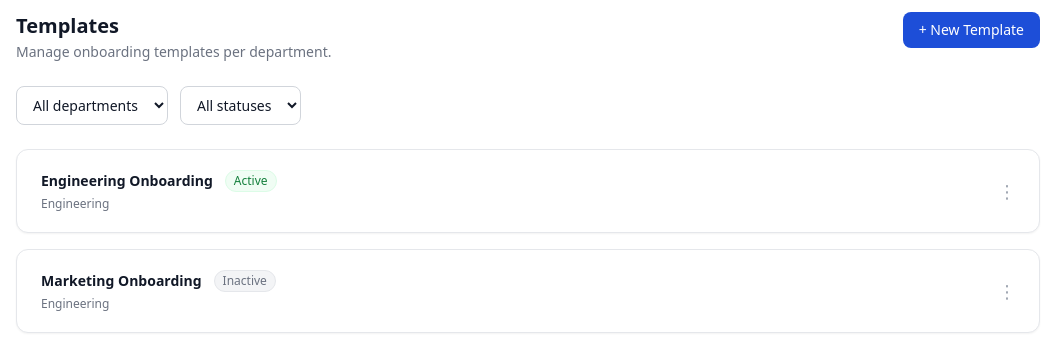
Scenario: TemplatesPage › filters templates by status
Expected: the heading "Engineering Onboarding" is shown, [41,171,213,191]
Select "Active" in the 2nd dropdown showing "All statuses" at (240, 106), box [180,86,301,125]
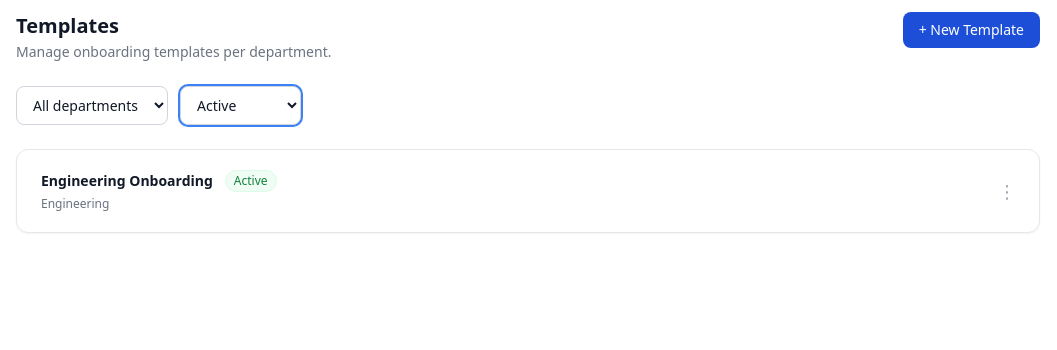
Expected: the heading "Engineering Onboarding" is shown, [41,171,213,191]
Expected: the link "Marketing Onboarding" is gone
